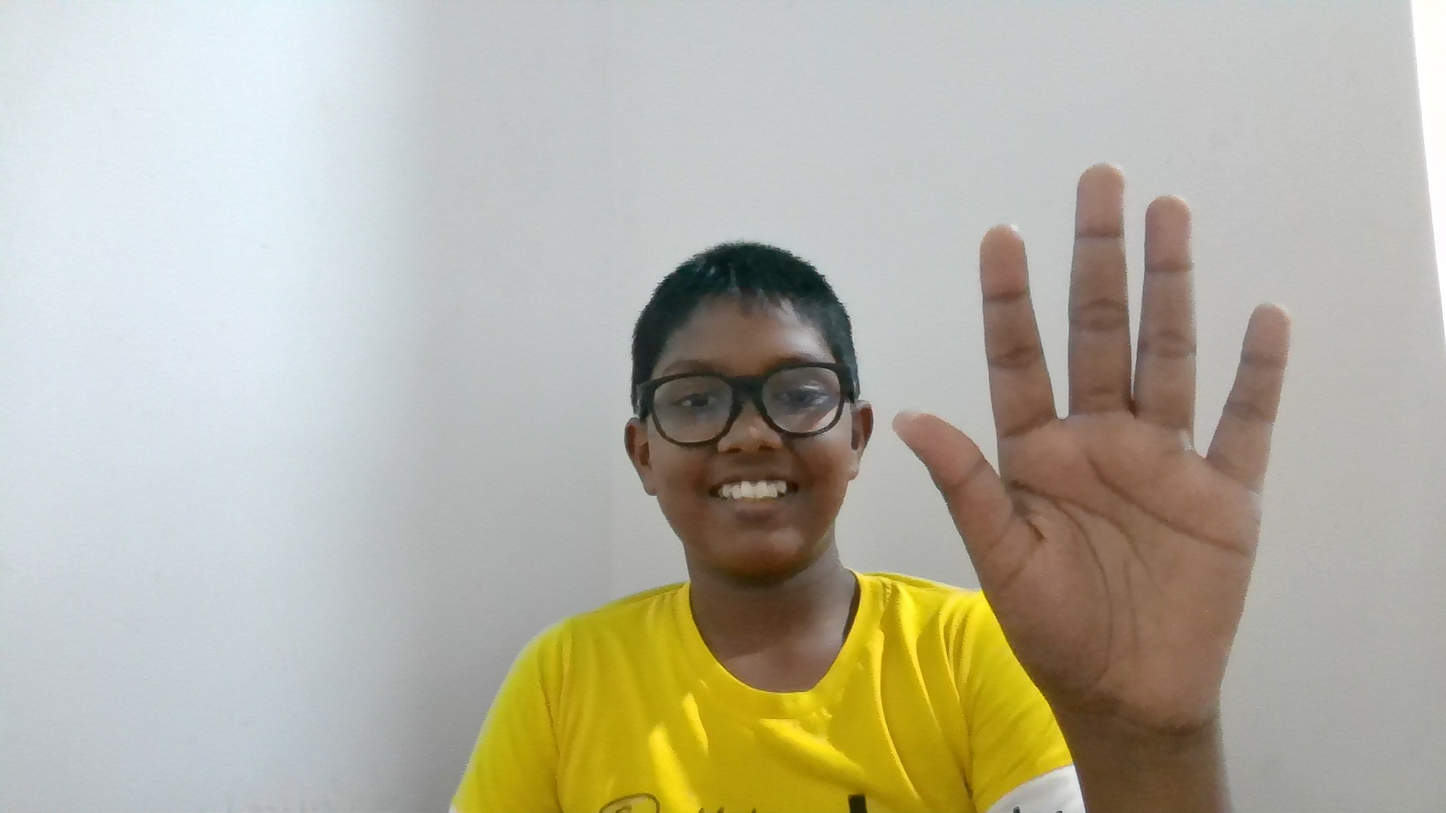Hello: (862, 112, 1325, 679)
